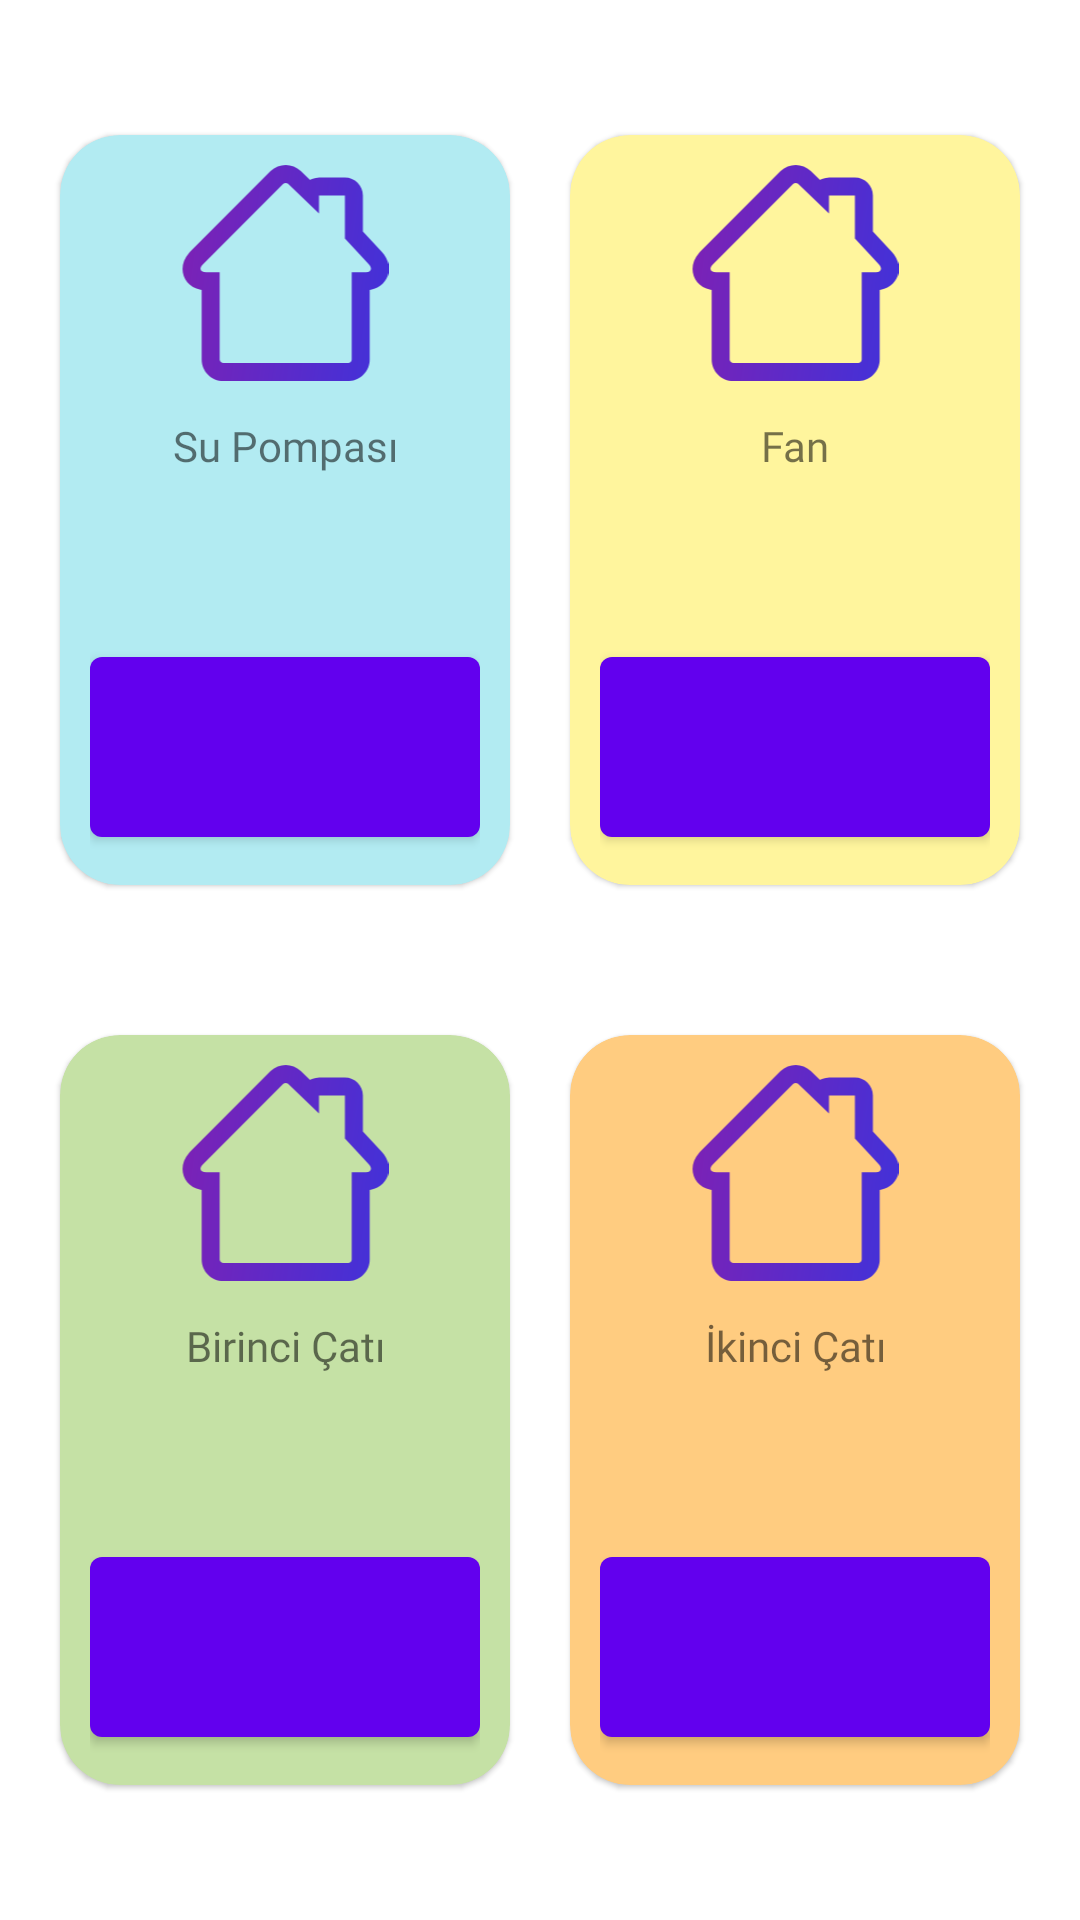

Icons on this 1080px×1920px Android screen, each with its box as (x1, y1, x2, y2):
bottom home: (182, 165, 389, 381), (692, 165, 899, 381), (182, 1065, 389, 1281), (692, 1065, 899, 1281)
